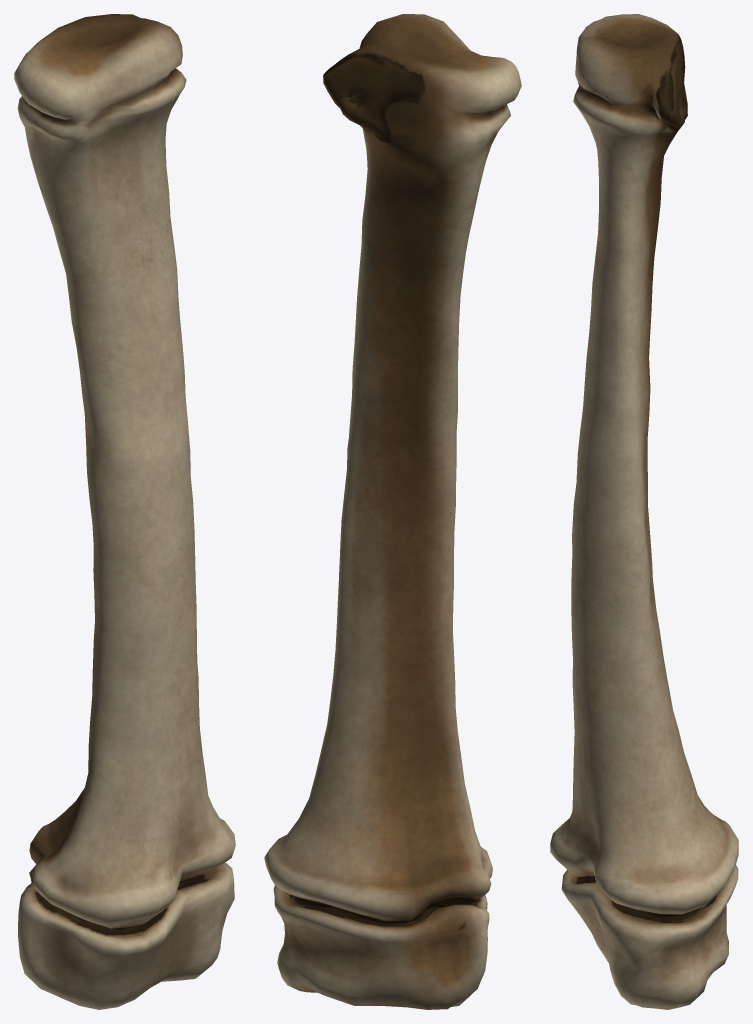
The model's file is Radius.glb.
The picture shows the model from 3 angles, left to right: view 1: azimuth 30°, elevation 25°; view 2: azimuth 150°, elevation 25°; view 3: azimuth 270°, elevation 25°; orthographic projection. The views are drawn at different scales.
Parts seen in each view (by area): view 1: Radius_Right1:Group11210; view 2: Radius_Right1:Group11210; view 3: Radius_Right1:Group11210.
Boxes of the visible parts, x1,y1,x2,y2 form: Radius_Right1:Group11210: (14,14,235,1009); Radius_Right1:Group11210: (264,14,521,1009); Radius_Right1:Group11210: (550,14,738,1009).
Bounding box in the file's own units: 26.79 × 112 × 20.52.
1 material, 1 textured.
